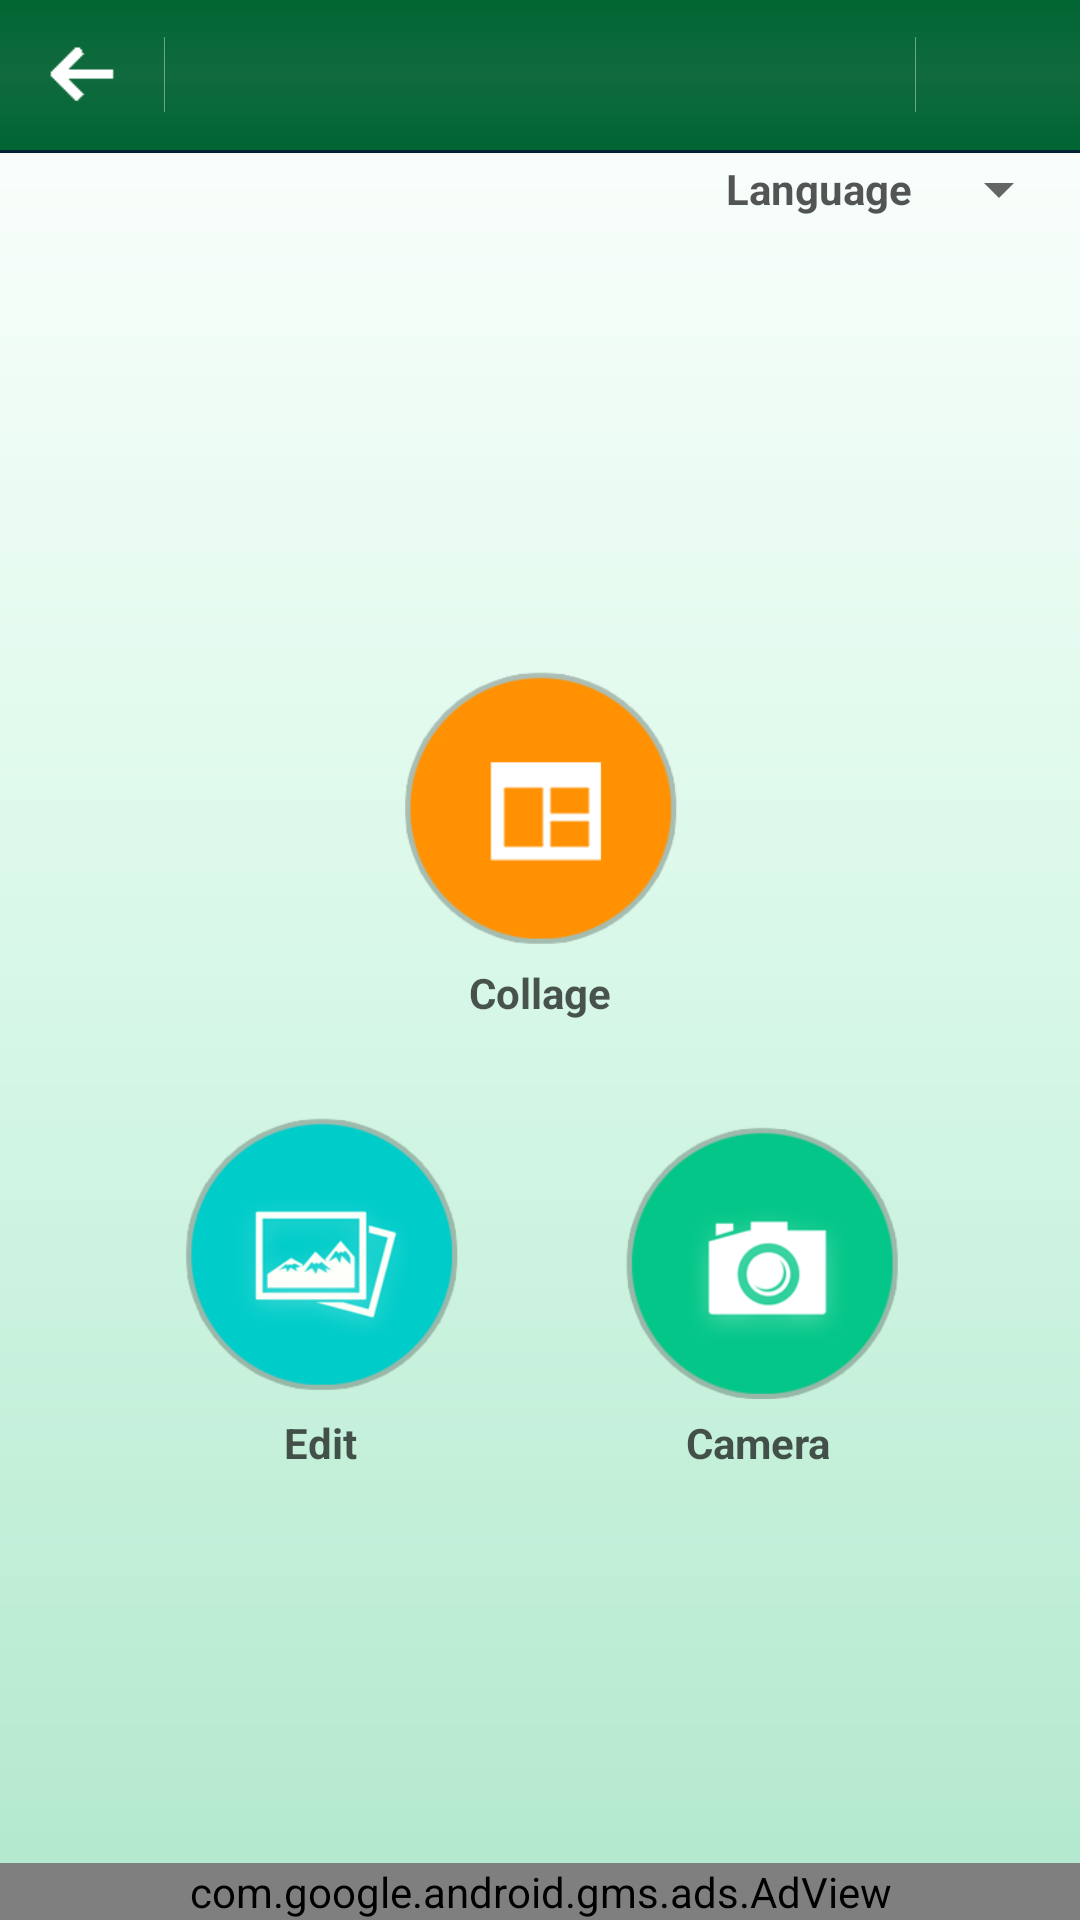

Where icons sit on this 1080×1920 app screen, as (x1, y1, x2, y2):
back: (50, 47, 114, 101)
